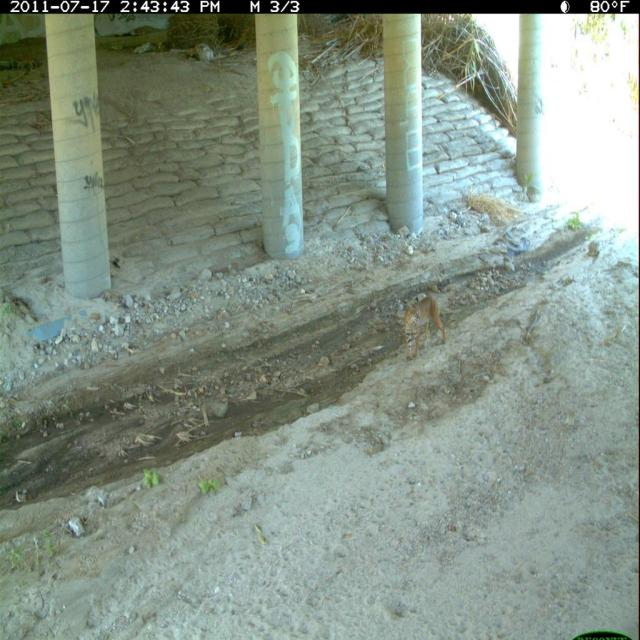bobcat: (401, 292, 450, 365)
